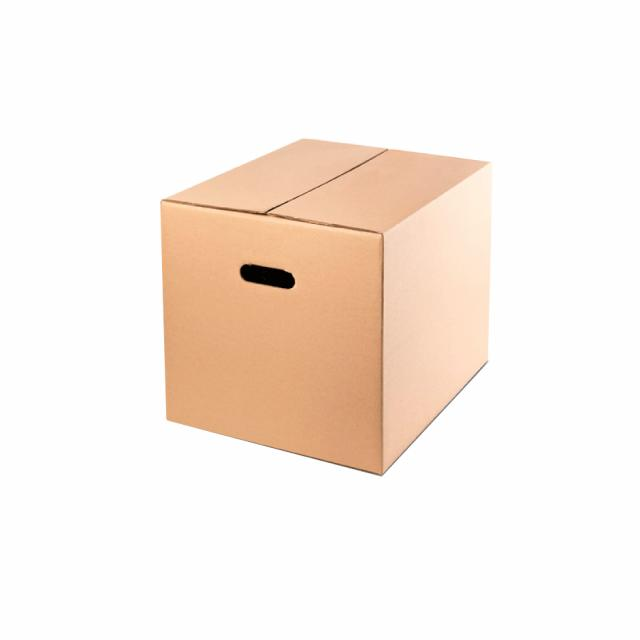Carton: (157, 133, 494, 473)
